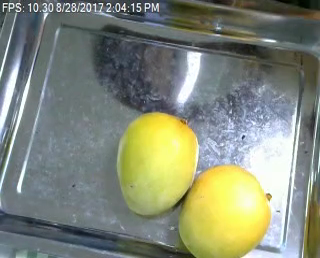Mango: (111, 108, 199, 216), (179, 164, 271, 256)
